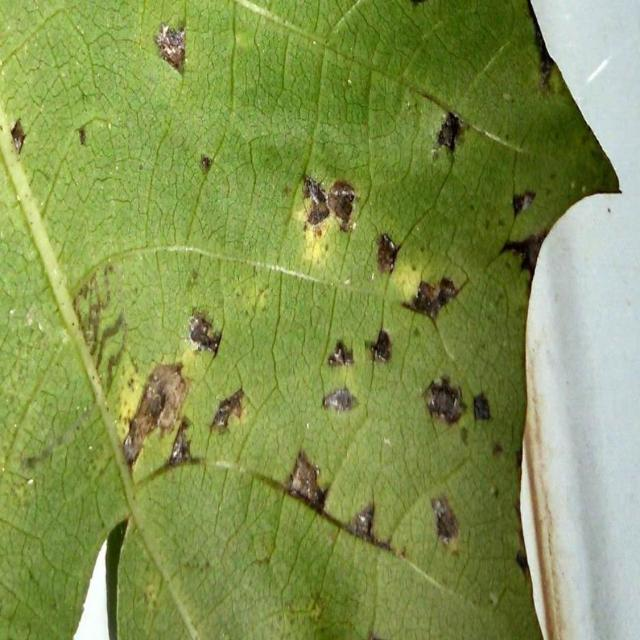Bacterial Blight: (141, 48, 501, 542)
